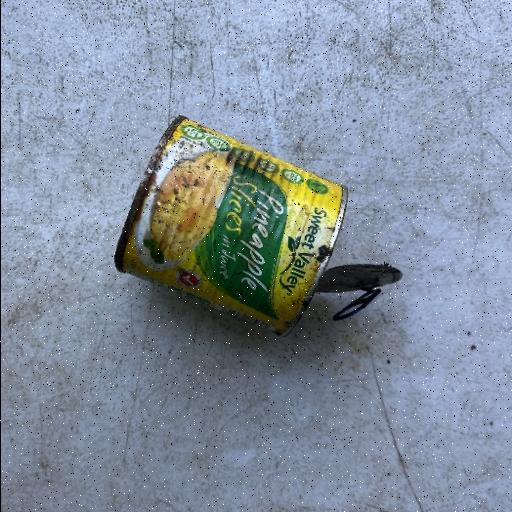Metal: (112, 114, 350, 338)
